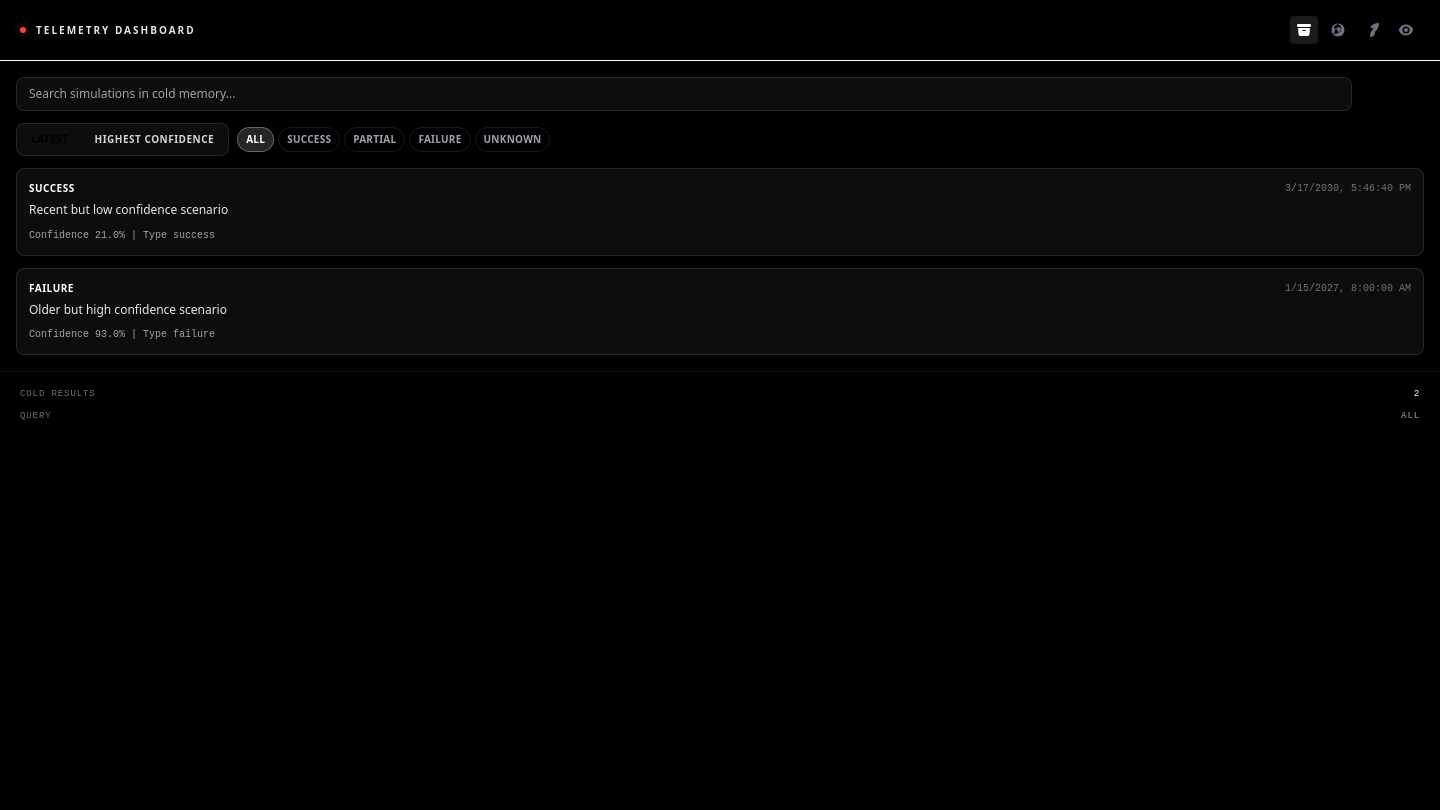
it: SimulationVisualizer memory mode › supports latest/highest-confidence sorting and outcome filtering chips
Click the button with test id "memory-sort-highest-confidence" at coordinates (154, 140), box [84, 128, 224, 151]
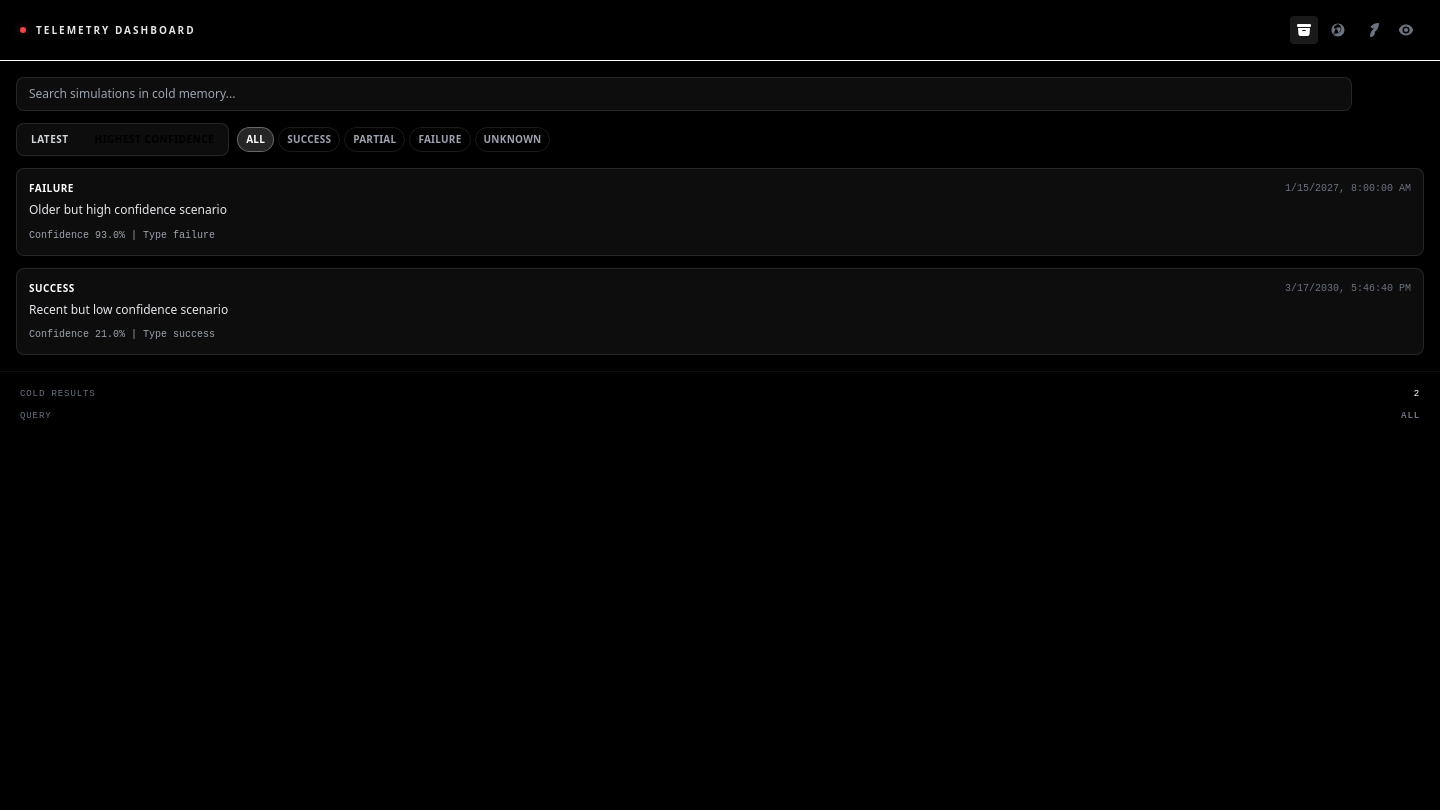
Click the button with test id "memory-filter-failure" at coordinates (440, 140), box [409, 127, 470, 152]
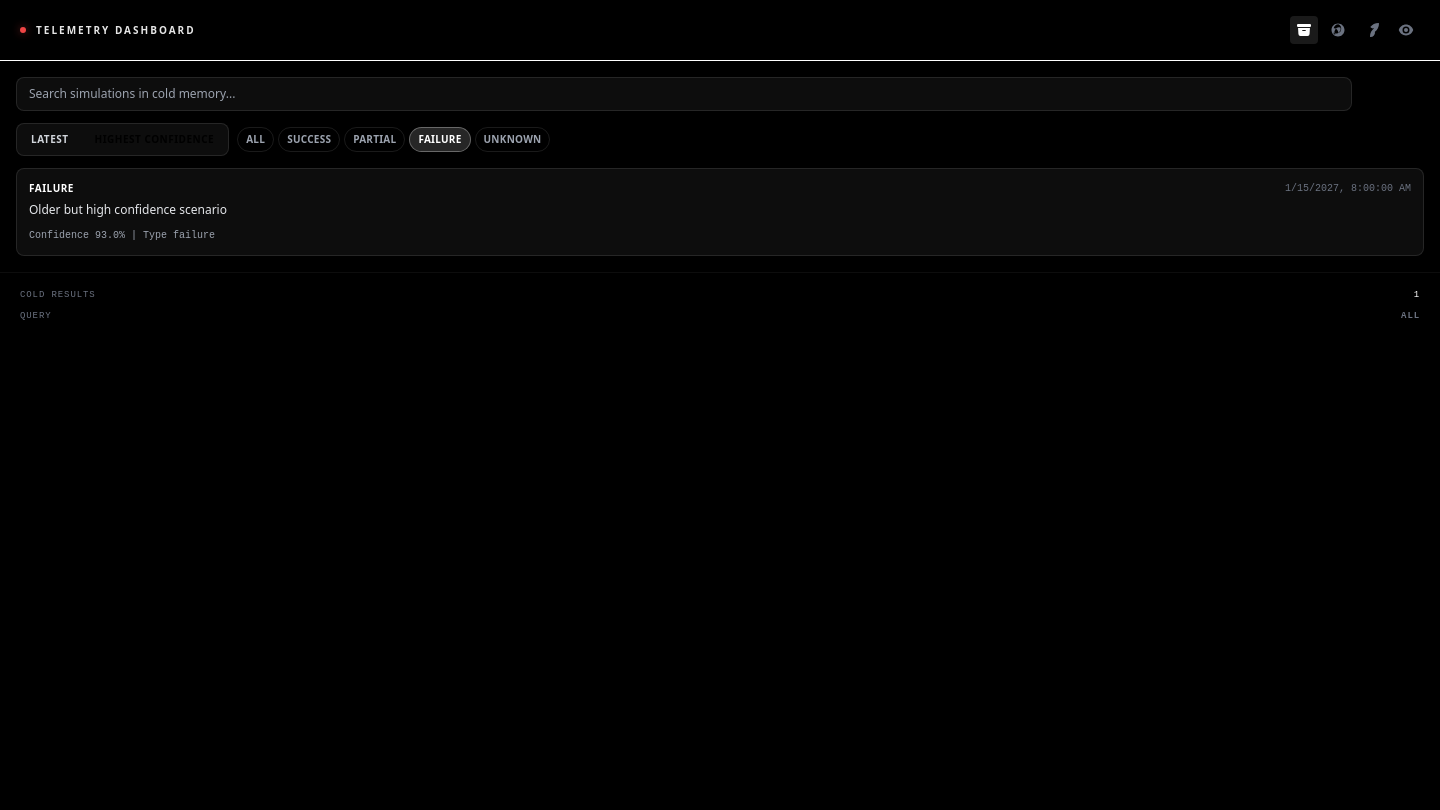
Expected: the text "Older but high confidence scenario" is shown, [29, 201, 227, 218]
Now the button "Recent but low confidence scenario" is gone
